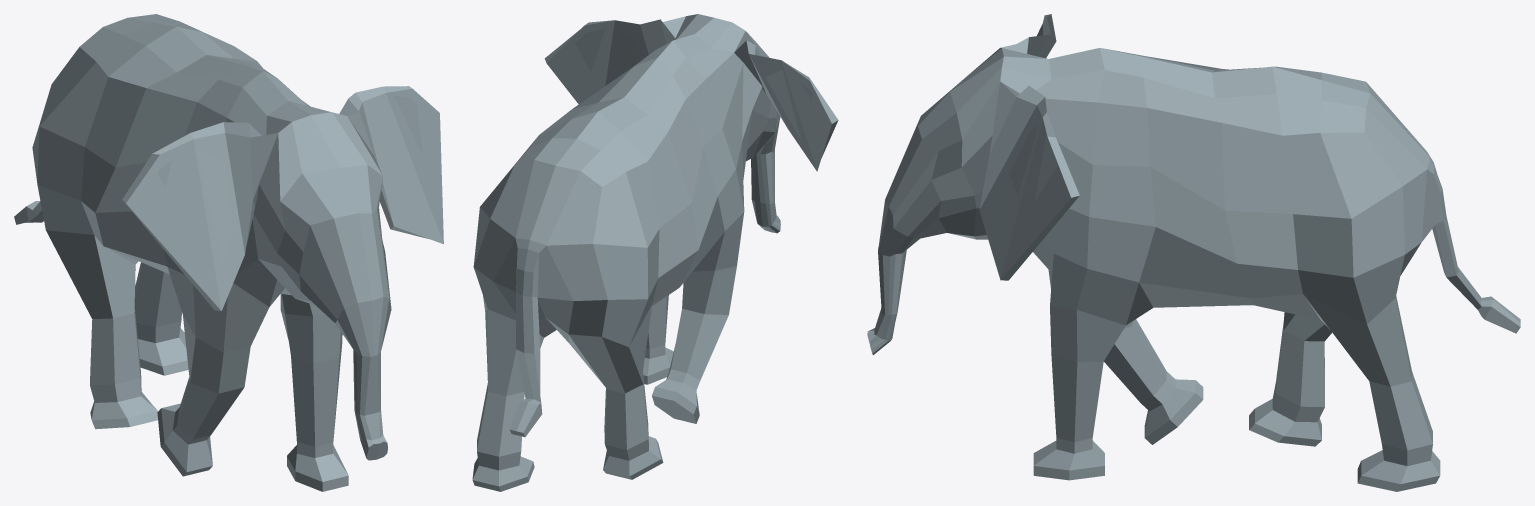
File: Elefant3.fbx
3 views of the same model, side by side, from view 1: azimuth 30°, elevation 25°; view 2: azimuth 150°, elevation 25°; view 3: azimuth 270°, elevation 25° (orthographic). The views are drawn at different scales.
Visible parts, largest first — view 1: Elefant3; view 2: Elefant3; view 3: Elefant3.
Boxes of the visible parts, bbox=[...] form: Elefant3: bbox=[14, 14, 443, 491]; Elefant3: bbox=[472, 14, 838, 491]; Elefant3: bbox=[867, 14, 1520, 491].
Size of the model in its own units: 1.5 by 1.82 by 2.61.
